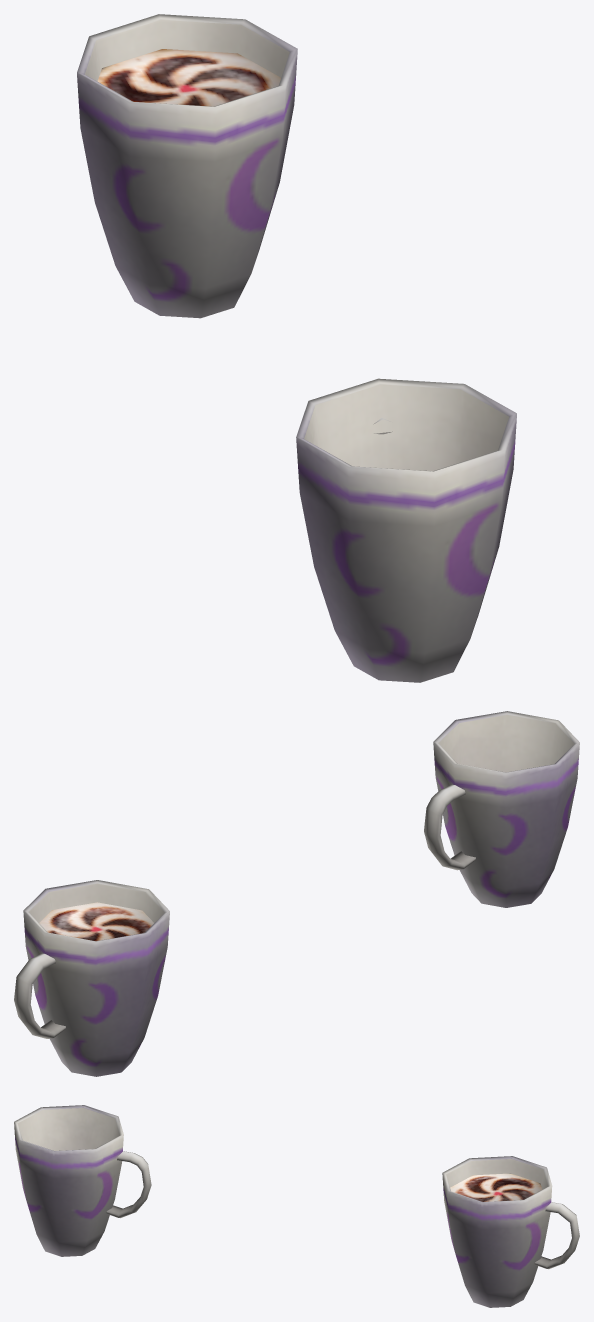
File: XiuXiShi_01_beizii_01.FBX
3 views of the same model, one above another, from view 1: azimuth 30°, elevation 25°; view 2: azimuth 150°, elevation 25°; view 3: azimuth 270°, elevation 25° (orthographic). The views are drawn at different scales.
Parts seen in each view (by area): view 1: XiuXiShi_beizi_01; view 2: XiuXiShi_beizi_01; view 3: XiuXiShi_beizi_01.
Boxes of the visible parts, box(x1,y1,x2,y2) form: XiuXiShi_beizi_01: box(77, 14, 516, 682); XiuXiShi_beizi_01: box(14, 711, 579, 1076); XiuXiShi_beizi_01: box(14, 1105, 579, 1307).
Size of the model in its own units: 114 by 64.08 by 280.
